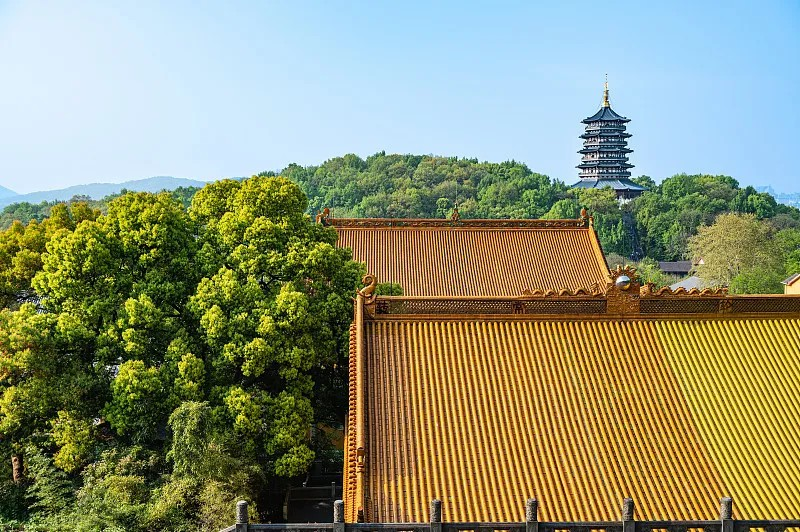Leifeng: (570, 72, 644, 203)
